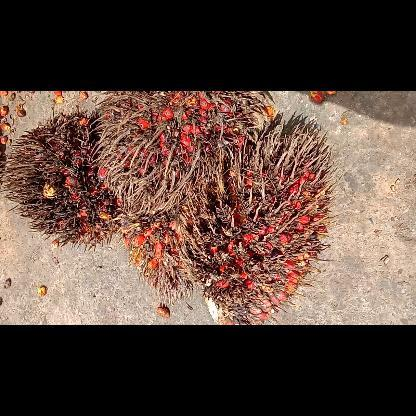Terlalu masak: (186, 118, 346, 324), (87, 90, 277, 214), (0, 108, 129, 253), (115, 207, 209, 309)
